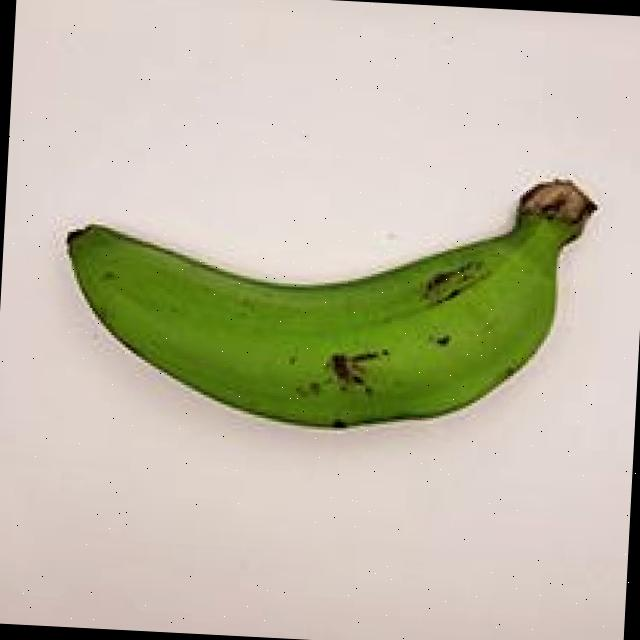Raw: (32, 130, 624, 472)
